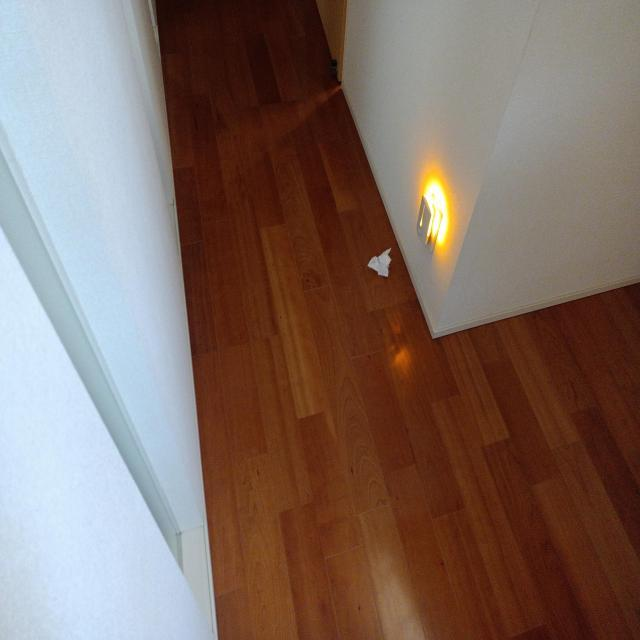Paper: (351, 244, 398, 285)
